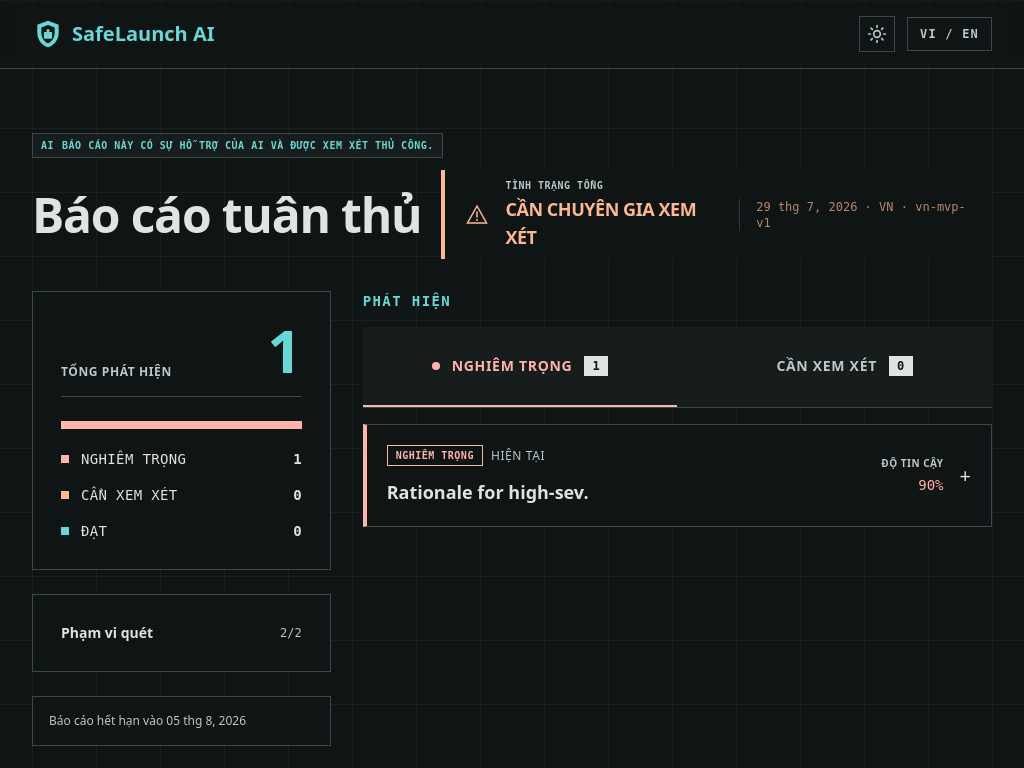
font deduplication in findings tabs › renders the font inventory inside the Cần xem xét tab panel (not as a standalone section)
The image size is (1024, 768).
Click the tab with test id "findings-tab-review". click: (835, 367)
box: [677,327,992,407]
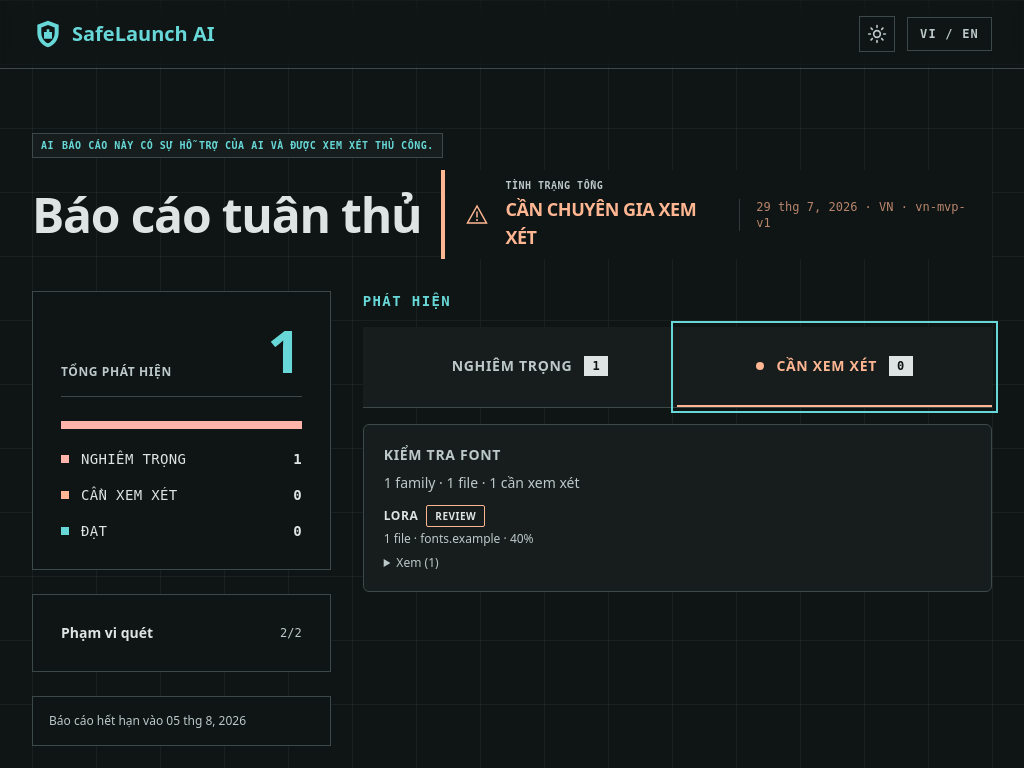
Result: the element with test id "font-inventory-section" is shown at [363,424,992,592]
Result: the text "Lora" is shown at [384,508,418,524]
Click the tab with test id "findings-tab-high". click: (520, 367)
box: [363,327,677,407]
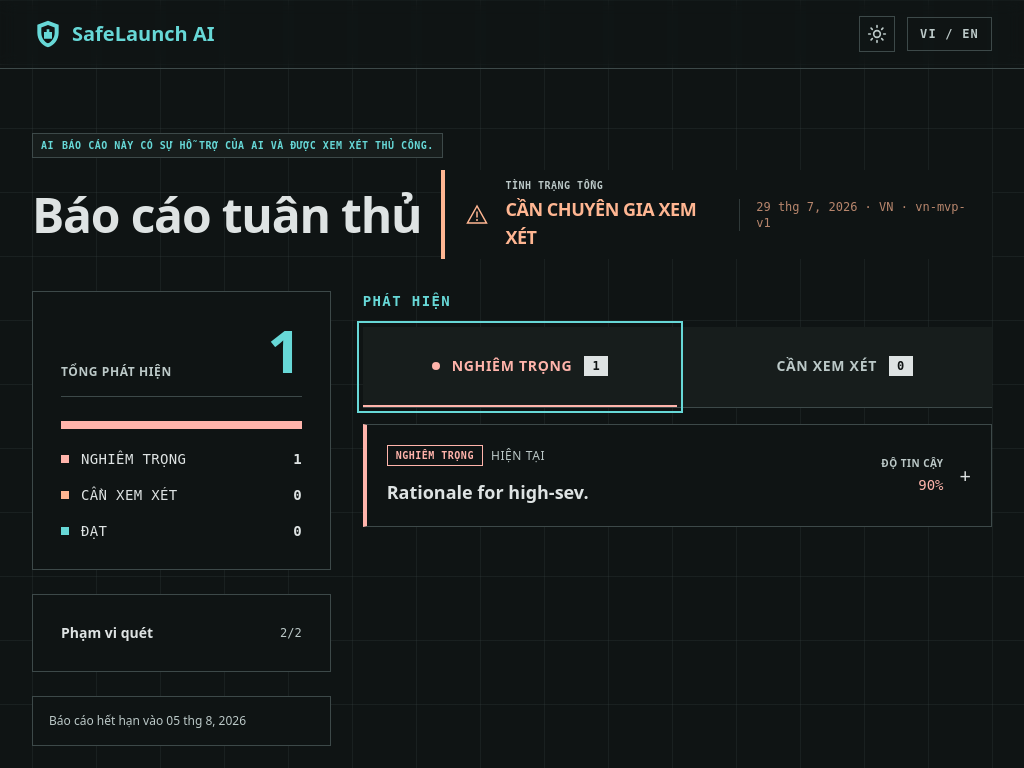
Result: the panel with test id "findings-tabpanel-high" is shown at [363,424,992,527]
Result: the element with test id "font-inventory-section" is gone
